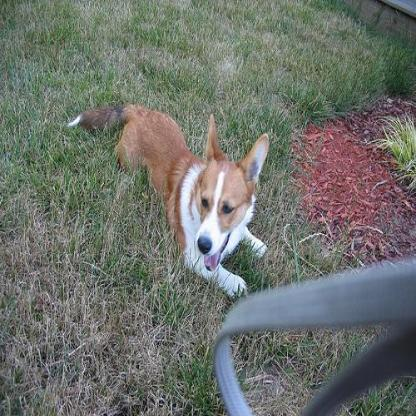Cardigan: (65, 104, 269, 296)
